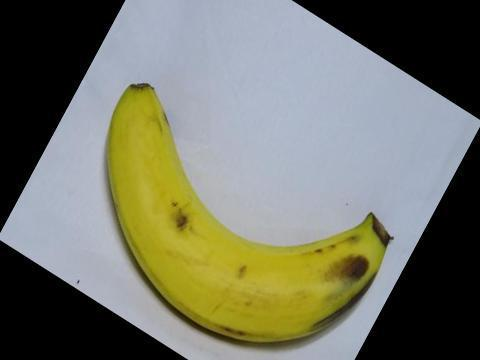freshripe: (93, 70, 400, 354)
